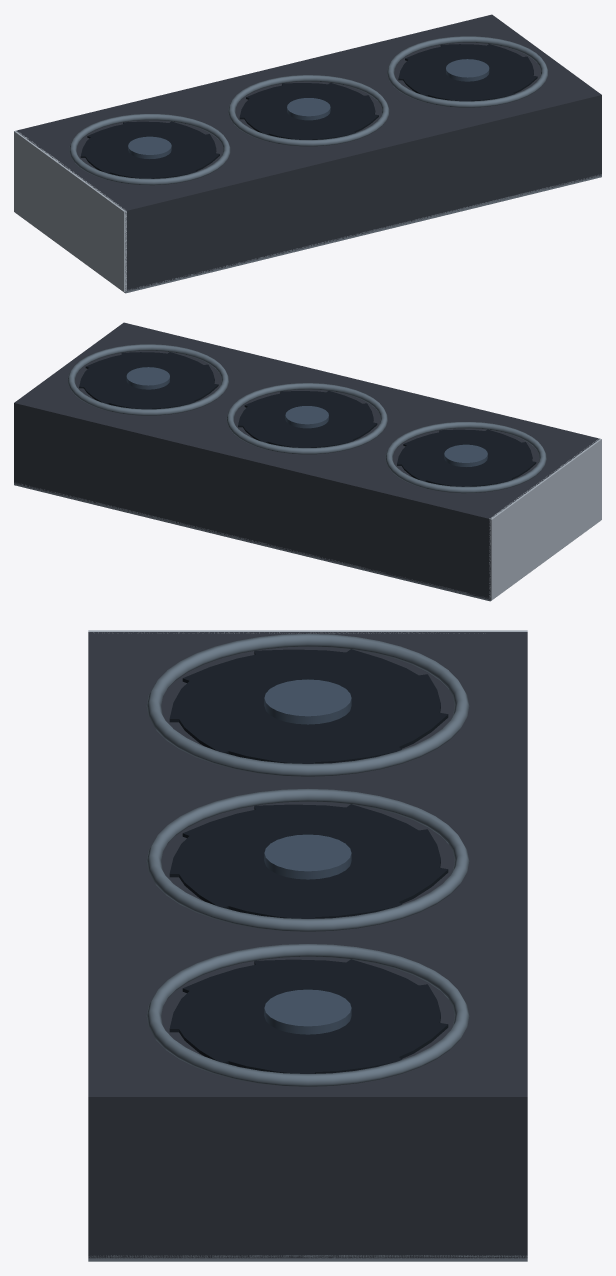
The model's file is retail-msi-geforce-rtx-5070-ti-16g-ventus-3x-oc.glb.
3 renders of one model, top to bottom at view 1: azimuth 30°, elevation 25°; view 2: azimuth 150°, elevation 25°; view 3: azimuth 270°, elevation 25°, orthographic. The views are drawn at different scales.
Visible parts, largest first — view 1: Cooler shroud, Cooler blade (×27), Bracket, Fan rim (×3), Fan hub (×3), Backplate; view 2: Cooler shroud, Cooler blade (×27), Bracket, Fan rim (×3), Fan hub (×3), Backplate; view 3: Cooler shroud, Cooler blade (×27), Fan rim (×3), Fan hub (×3), Backplate, Bracket.
Part boxes in pixels (box(x1,y1,x2,y2)): Cooler shroud: box(16, 14, 601, 290); Cooler blade (×27): box(80, 44, 537, 178); Bracket: box(14, 130, 126, 291); Fan rim (×3): box(69, 36, 547, 185); Fan hub (×3): box(128, 59, 489, 158); Backplate: box(24, 174, 601, 293); Cooler shroud: box(14, 322, 599, 599); Cooler blade (×27): box(79, 352, 536, 486); Bracket: box(489, 438, 601, 599); Fan rim (×3): box(68, 344, 546, 493); Fan hub (×3): box(126, 367, 487, 466); Backplate: box(14, 482, 591, 601); Cooler shroud: box(88, 632, 527, 1258); Cooler blade (×27): box(169, 649, 448, 1073); Fan rim (×3): box(146, 633, 469, 1086); Fan hub (×3): box(264, 679, 351, 1034); Backplate: box(88, 1255, 527, 1261); Bracket: box(88, 630, 527, 633).
Size of the model in its own units: 0.304 by 0.0535 by 0.121.
